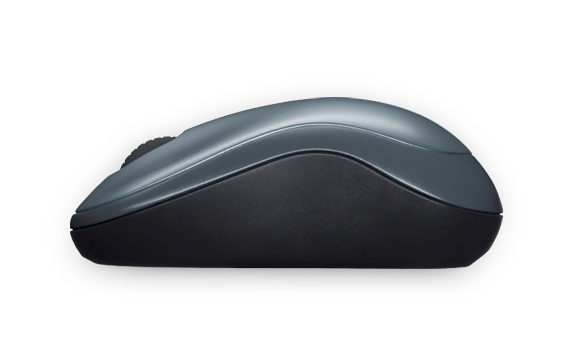logitech-mouse-m185: (64, 98, 503, 271)
